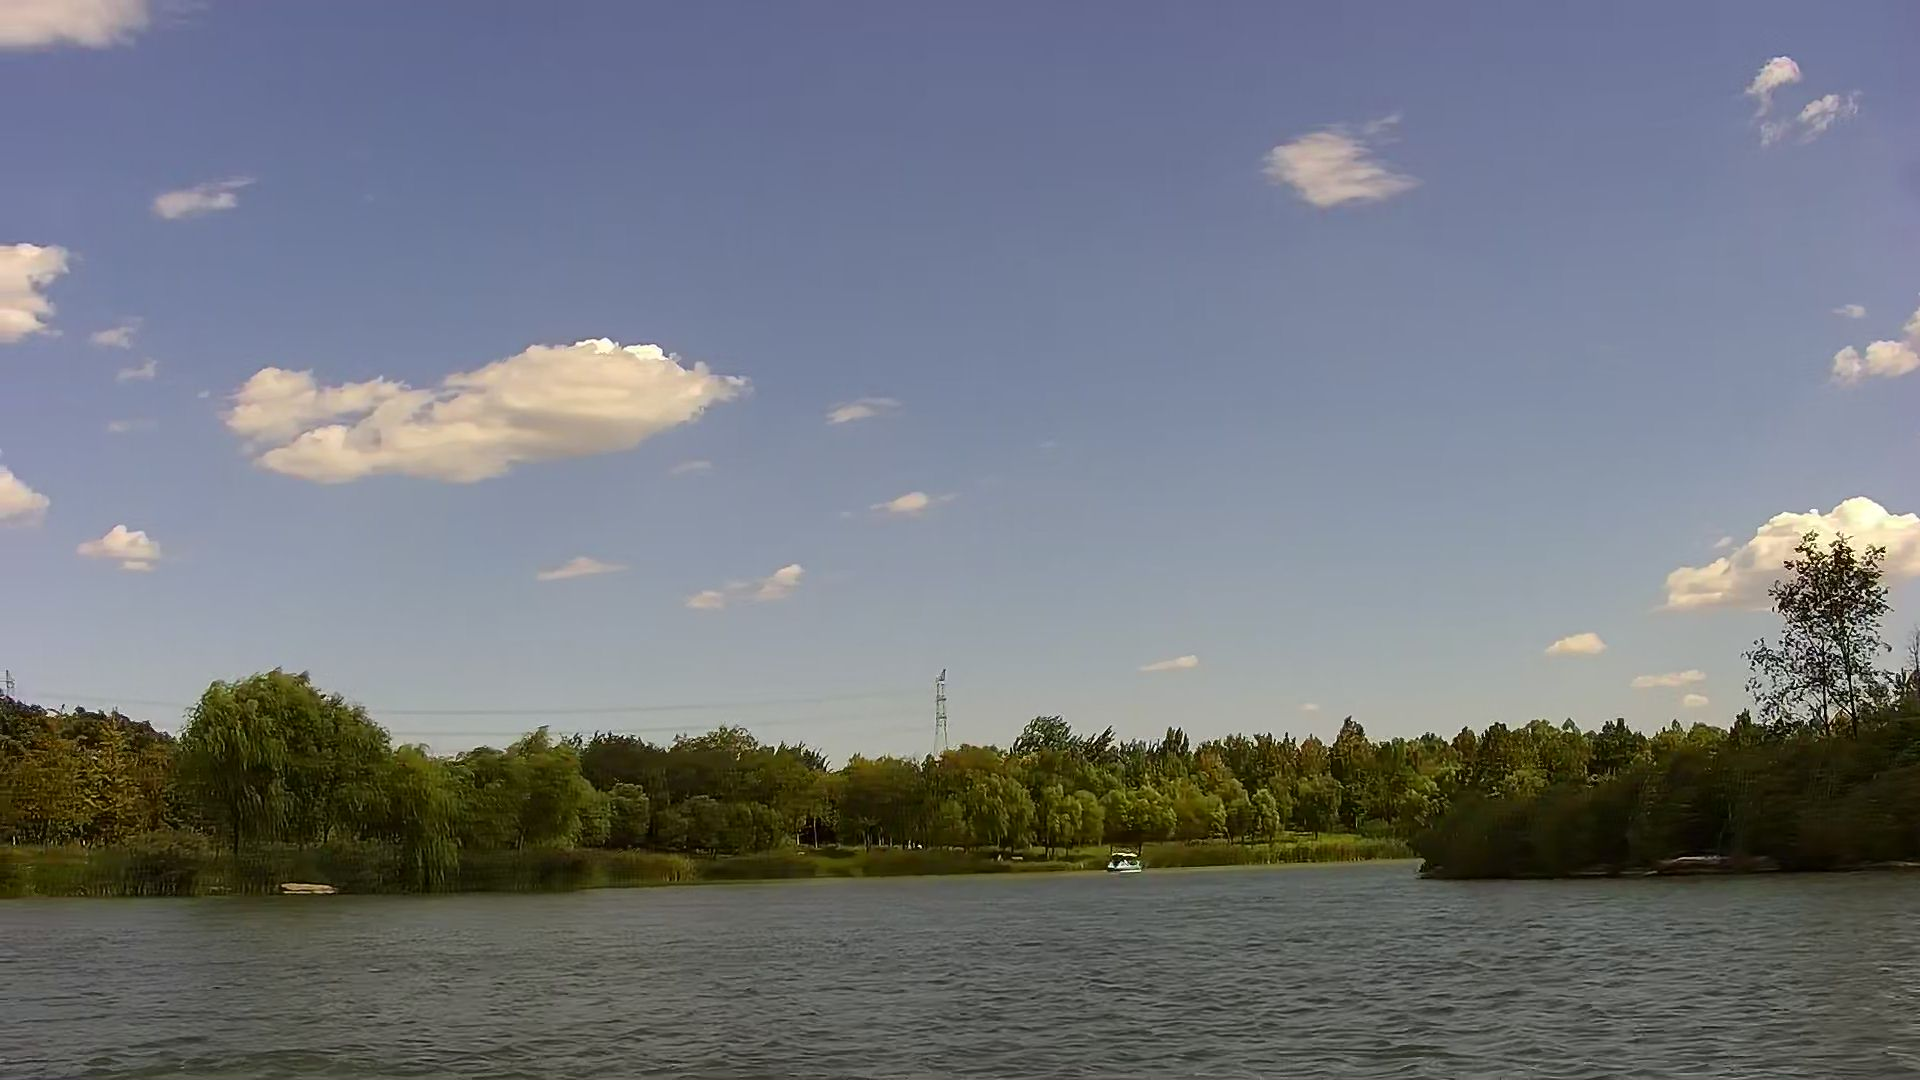boat: (1109, 851, 1139, 872)
rock: (1673, 849, 1749, 869), (281, 881, 335, 899)
